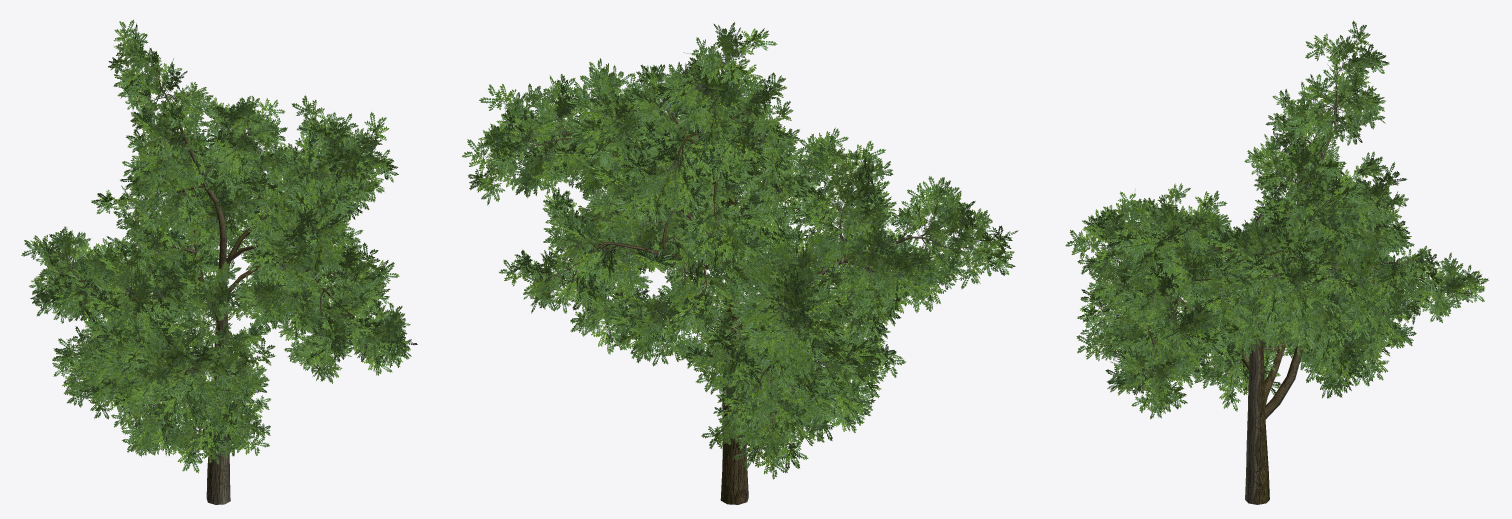
Rendered from tree-ash.glb.
3 views of the same model, side by side, from view 1: azimuth 30°, elevation 25°; view 2: azimuth 150°, elevation 25°; view 3: azimuth 270°, elevation 25° (orthographic). The views are drawn at different scales.
Visible parts, largest first — view 1: Tree; view 2: Tree; view 3: Tree.
Part boxes in pixels (x1=…): Tree: x1=21, y1=19, x2=417, y2=504; Tree: x1=462, y1=22, x2=1018, y2=504; Tree: x1=1065, y1=20, x2=1488, y2=504.
Size of the model in its own units: 72.05 by 81.63 by 70.86.
2 materials, 2 textured.
